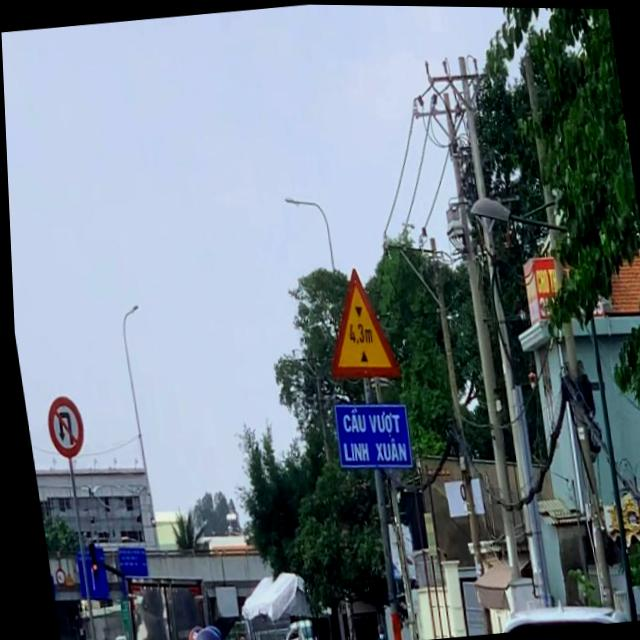Cam quay dau xe: (36, 388, 88, 467)
Chieu cao an toan: (307, 256, 400, 385)
